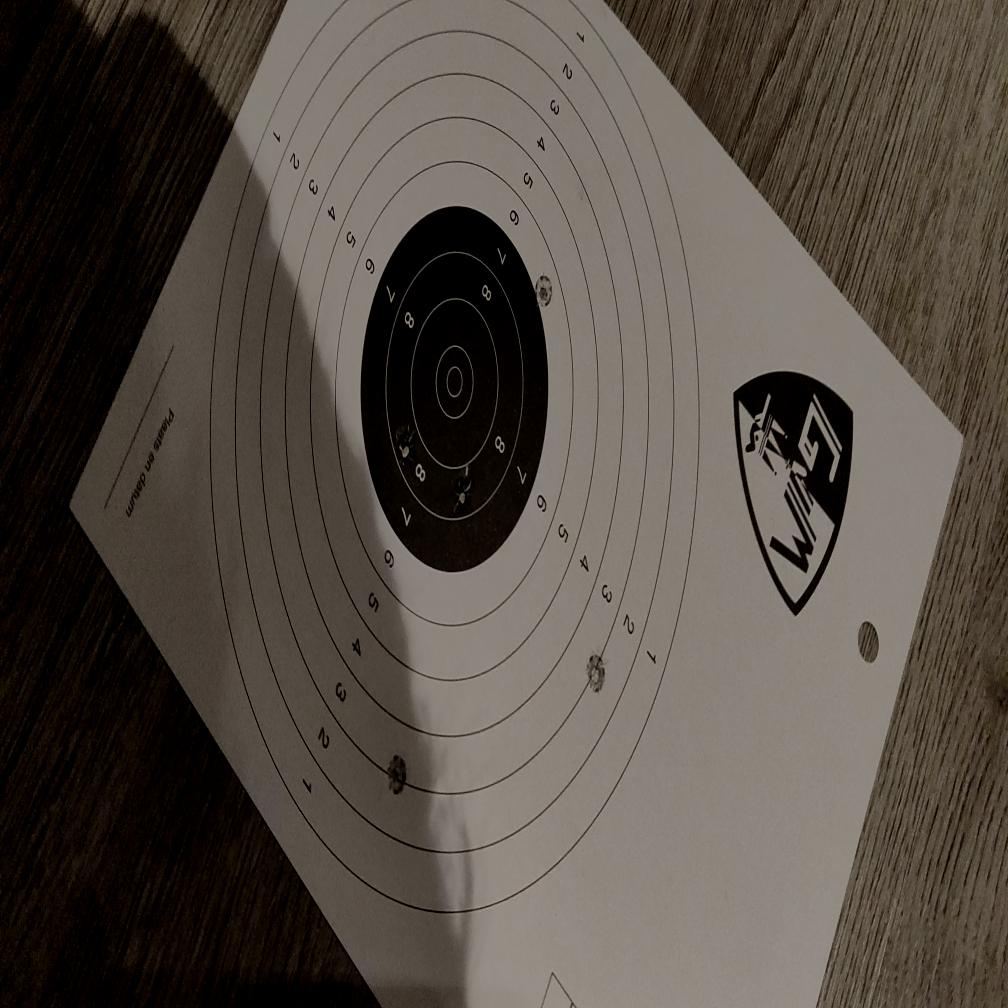3: (386, 748, 408, 803), (584, 653, 606, 695)
6: (536, 274, 552, 308)
8: (394, 422, 416, 471), (453, 465, 472, 516)
Target: (207, 0, 702, 917)
black_contour: (360, 203, 549, 576)
